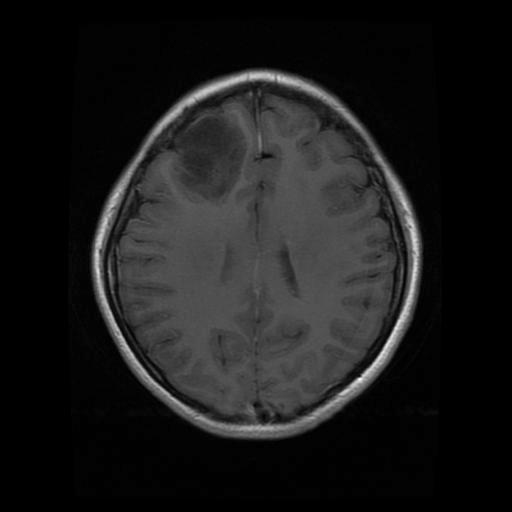Tumour-Glioma: (171, 115, 255, 198)
